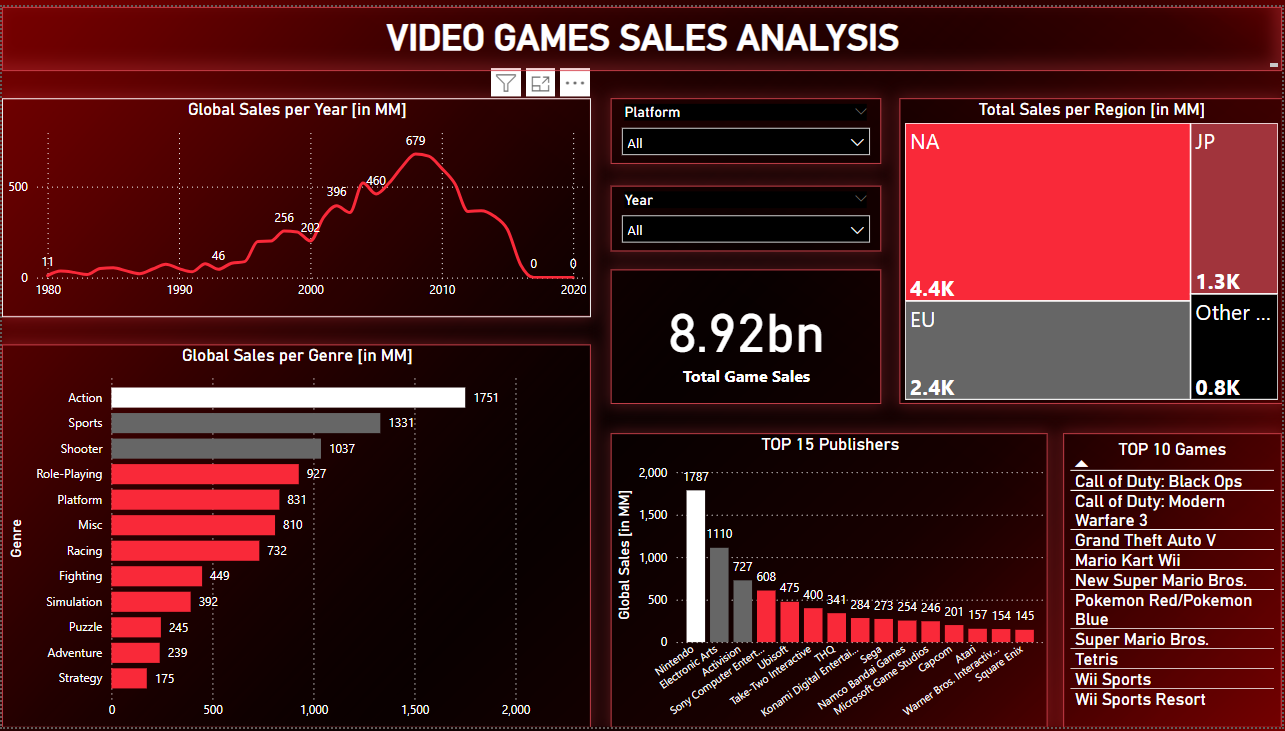

The dashboard page shown, as its layout file describes it:
{"tool":"powerbi","page":{"name":"VG_SALES DASHBOARD","canvas":[1280,720],"ordinal":0},"visuals":[{"type":"lineChart","title":"Global Sales per Year [in MM]","fields":{"Y":["Sum(vgsales.Global_Sales)"],"Category":["vgsales.Year"]},"box":[0,91.4,588.6,218.6],"z":0},{"type":"textbox","title":"VIDEO GAMES SALES ANALYSIS","box":[0,0,1280,64],"z":1000},{"type":"slicer","fields":{"Values":["vgsales.Platform"]},"box":[608.6,91.4,270,65.7],"z":2000},{"type":"slicer","fields":{"Values":["vgsales.Year"]},"box":[608.6,178.6,270,65.7],"z":3000},{"type":"card","fields":{"Values":["vgsales.TotalinMM"]},"box":[608.6,262.9,270,134.3],"z":4000},{"type":"treemap","title":"Total Sales per Region [in MM]","fields":{"Values":["Sum(vgsales.JP_Sales)","Sum(vgsales.NA_Sales)","Sum(vgsales.Other_Sales)","Sum(vgsales.EU_Sales)"]},"box":[897.1,91.4,382.9,305.7],"z":5000},{"type":"clusteredBarChart","title":"Global Sales per Genre [in MM]","fields":{"Category":["vgsales.Genre"],"Y":["Sum(vgsales.Global_Sales)"]},"box":[0,337.1,588.6,382.9],"z":6000},{"type":"columnChart","title":"TOP 15 Publishers","fields":{"Y":["Sum(vgsales.Global_Sales)"],"Category":["vgsales.Publisher"]},"box":[608.6,425.7,437.1,294.3],"z":7000},{"type":"tableEx","fields":{"Values":["vgsales.Name"]},"box":[1061.4,425.7,218.6,294.3],"z":8000}]}

Visuals, with their boxes in screenshot pixels (x1, y1, x2, y2), scaled from the page's 1280x720 canvas onto the 1285x731 screenshot:
"Global Sales per Year [in MM]" lineChart: {"x1": 0, "y1": 93, "x2": 591, "y2": 315}
"VIDEO GAMES SALES ANALYSIS" textbox: {"x1": 0, "y1": 0, "x2": 1284, "y2": 65}
slicer - vgsales.Platform: {"x1": 611, "y1": 93, "x2": 882, "y2": 160}
slicer - vgsales.Year: {"x1": 611, "y1": 181, "x2": 882, "y2": 248}
card - vgsales.TotalinMM: {"x1": 611, "y1": 267, "x2": 882, "y2": 403}
"Total Sales per Region [in MM]" treemap: {"x1": 901, "y1": 93, "x2": 1284, "y2": 403}
"Global Sales per Genre [in MM]" clusteredBarChart: {"x1": 0, "y1": 342, "x2": 591, "y2": 730}
"TOP 15 Publishers" columnChart: {"x1": 611, "y1": 432, "x2": 1050, "y2": 730}
tableEx - vgsales.Name: {"x1": 1066, "y1": 432, "x2": 1284, "y2": 730}
